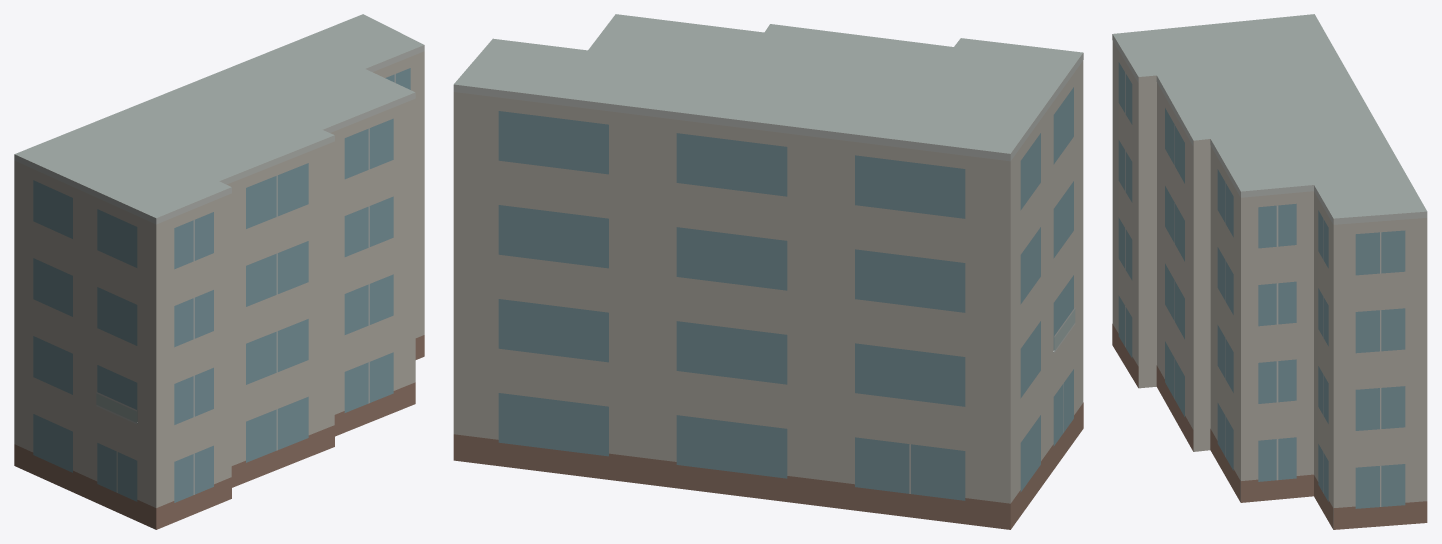
Rendered from survey-upis-32802155.glb.
3 views of the same model, side by side, from view 1: azimuth 30°, elevation 25°; view 2: azimuth 150°, elevation 25°; view 3: azimuth 270°, elevation 25° (orthographic). The views are drawn at different scales.
Visible parts, largest first — view 1: survey-upis-32802155.tmp; view 2: survey-upis-32802155.tmp; view 3: survey-upis-32802155.tmp.
Boxes of the visible parts, x1,y1,x2,y2 form: survey-upis-32802155.tmp: (14, 14, 424, 529); survey-upis-32802155.tmp: (453, 14, 1083, 529); survey-upis-32802155.tmp: (1112, 14, 1427, 529).
Bounding box in the file's own units: 17.2 × 12.2 × 11.2.
